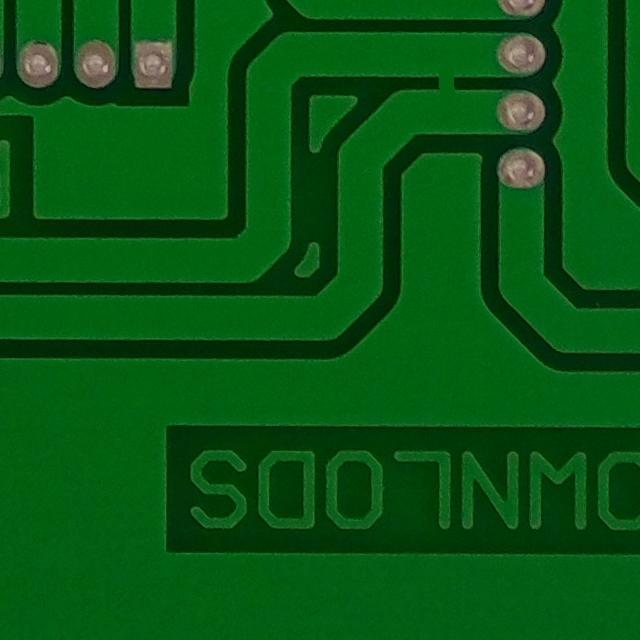short: (399, 21, 504, 148)
